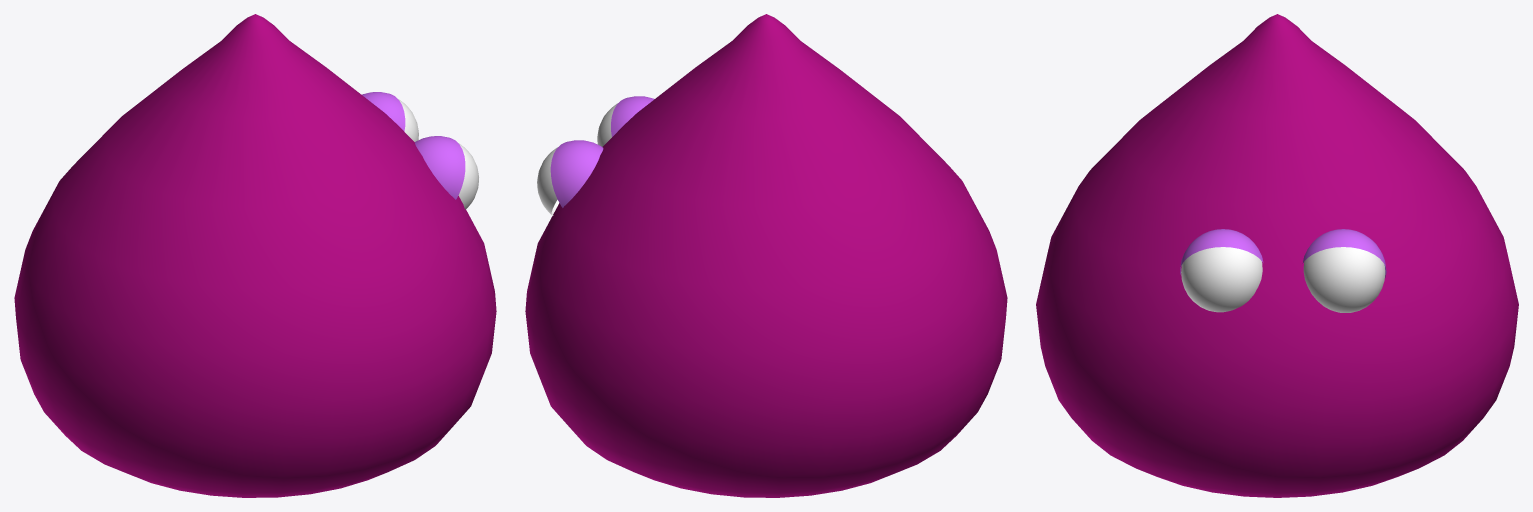
File: LimoSeparado4.fbx
3 renders of one model, left to right at view 1: azimuth 30°, elevation 25°; view 2: azimuth 150°, elevation 25°; view 3: azimuth 270°, elevation 25°, orthographic.
Visible parts, largest first — view 1: Base002; view 2: Base002; view 3: Base002.
Boxes of the visible parts, x1=… form: Base002: x1=14, y1=14, x2=496, y2=497; Base002: x1=525, y1=14, x2=1007, y2=497; Base002: x1=1036, y1=14, x2=1518, y2=497.
Bounding box in the file's own units: 30 × 29.1 × 30.
